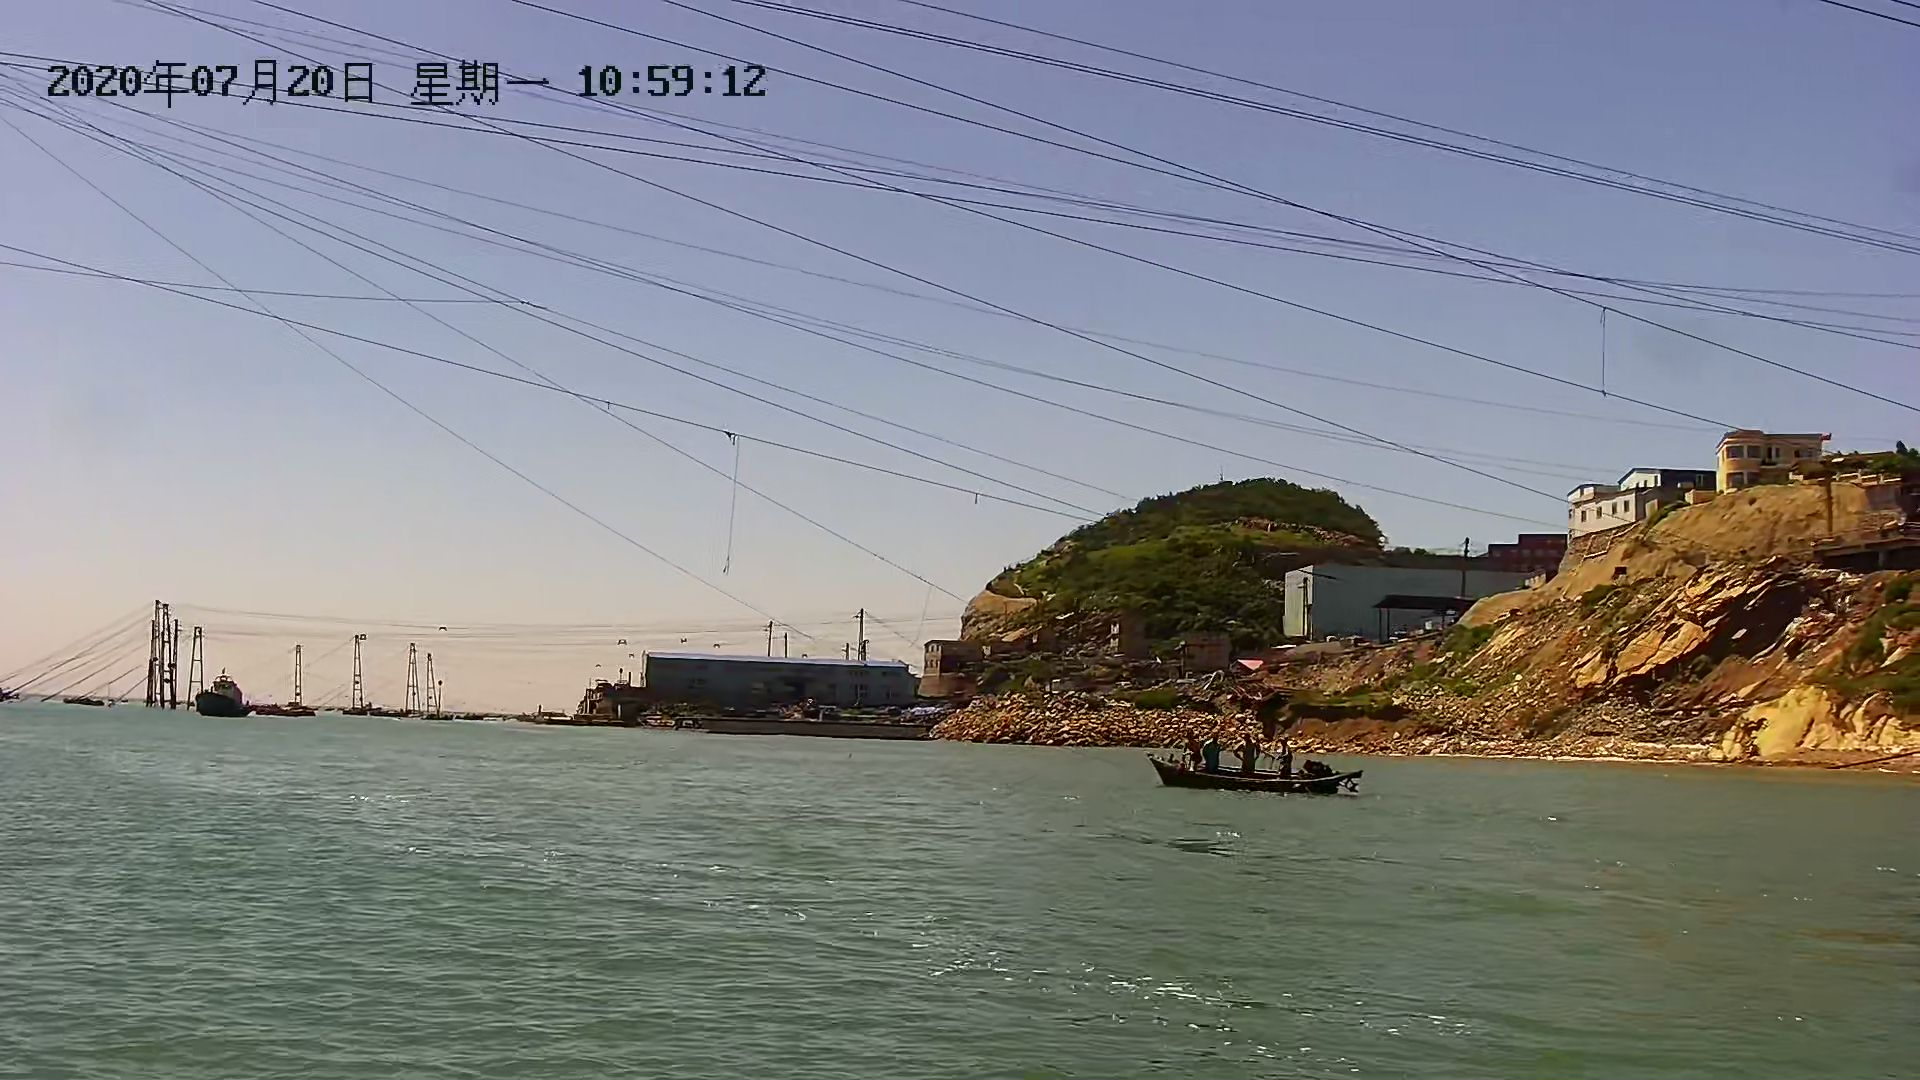boat: (1143, 751, 1361, 797)
person: (1233, 730, 1262, 787), (1271, 737, 1300, 788), (1200, 729, 1224, 779), (1182, 732, 1202, 780)
ship: (195, 675, 258, 720)
